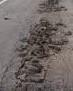crack: (19, 14, 65, 83)
